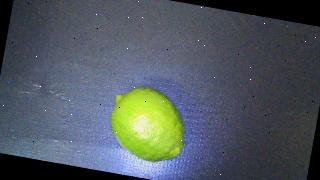EXPORTACION: (105, 83, 193, 167)
